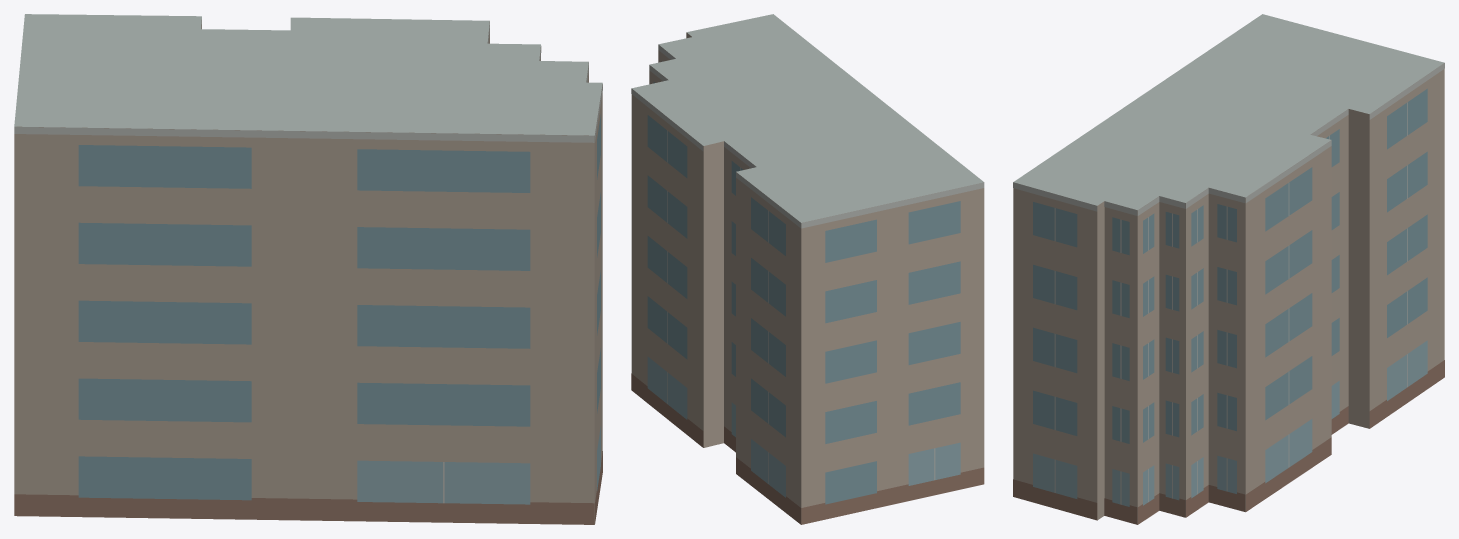
File: survey-upis-32737344.glb
The picture shows the model from 3 angles, left to right: view 1: azimuth 30°, elevation 25°; view 2: azimuth 150°, elevation 25°; view 3: azimuth 270°, elevation 25°; orthographic projection. The views are drawn at different scales.
Parts seen in each view (by area): view 1: survey-upis-32737344.tmp; view 2: survey-upis-32737344.tmp; view 3: survey-upis-32737344.tmp.
Boxes of the visible parts, x1,y1,x2,y2 form: survey-upis-32737344.tmp: [14, 14, 602, 524]; survey-upis-32737344.tmp: [631, 14, 984, 524]; survey-upis-32737344.tmp: [1013, 14, 1444, 524].
Bounding box in the file's own units: 17.4 × 13 × 16.17.
